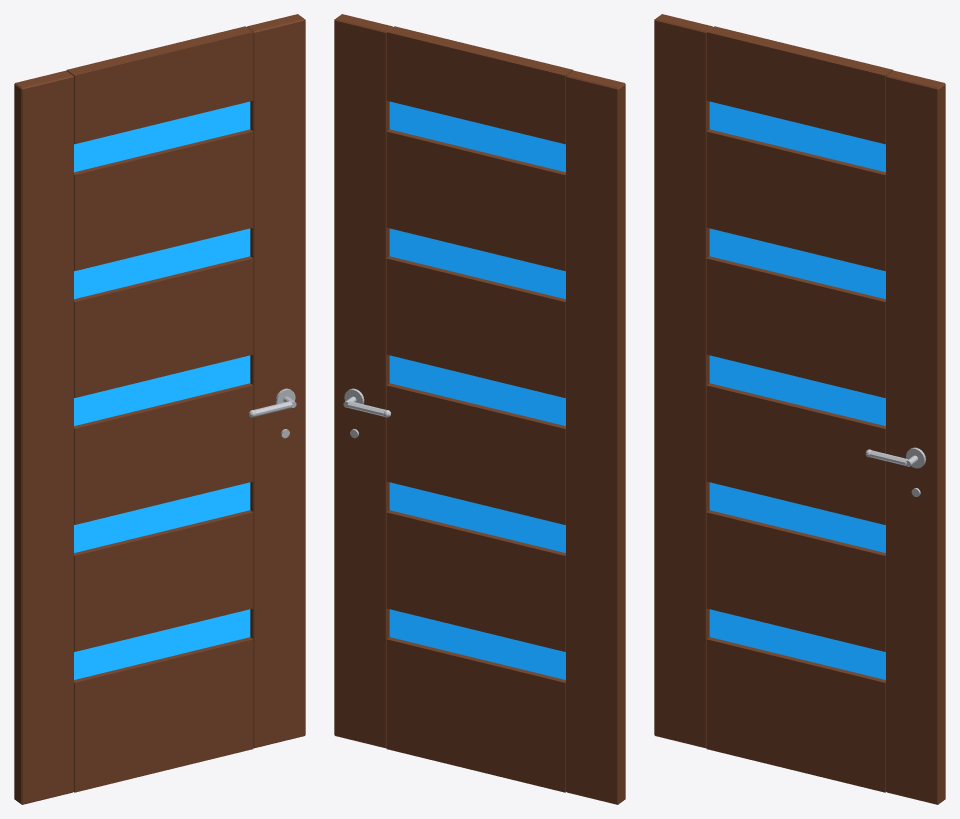
The model's file is porta_frisos_vidro_madeira.glb.
3 views of the same model, side by side, from view 1: azimuth 30°, elevation 25°; view 2: azimuth 150°, elevation 25°; view 3: azimuth 330°, elevation 25° (orthographic).
Visible parts, largest first — view 1: porta_frisos_vidro_madeira; view 2: porta_frisos_vidro_madeira; view 3: porta_frisos_vidro_madeira.
Boxes of the visible parts, bbox=[...] form: porta_frisos_vidro_madeira: bbox=[14, 14, 305, 804]; porta_frisos_vidro_madeira: bbox=[334, 14, 625, 804]; porta_frisos_vidro_madeira: bbox=[654, 14, 945, 804].
Bounding box in the file's own units: 0.86 × 2.07 × 0.143.
